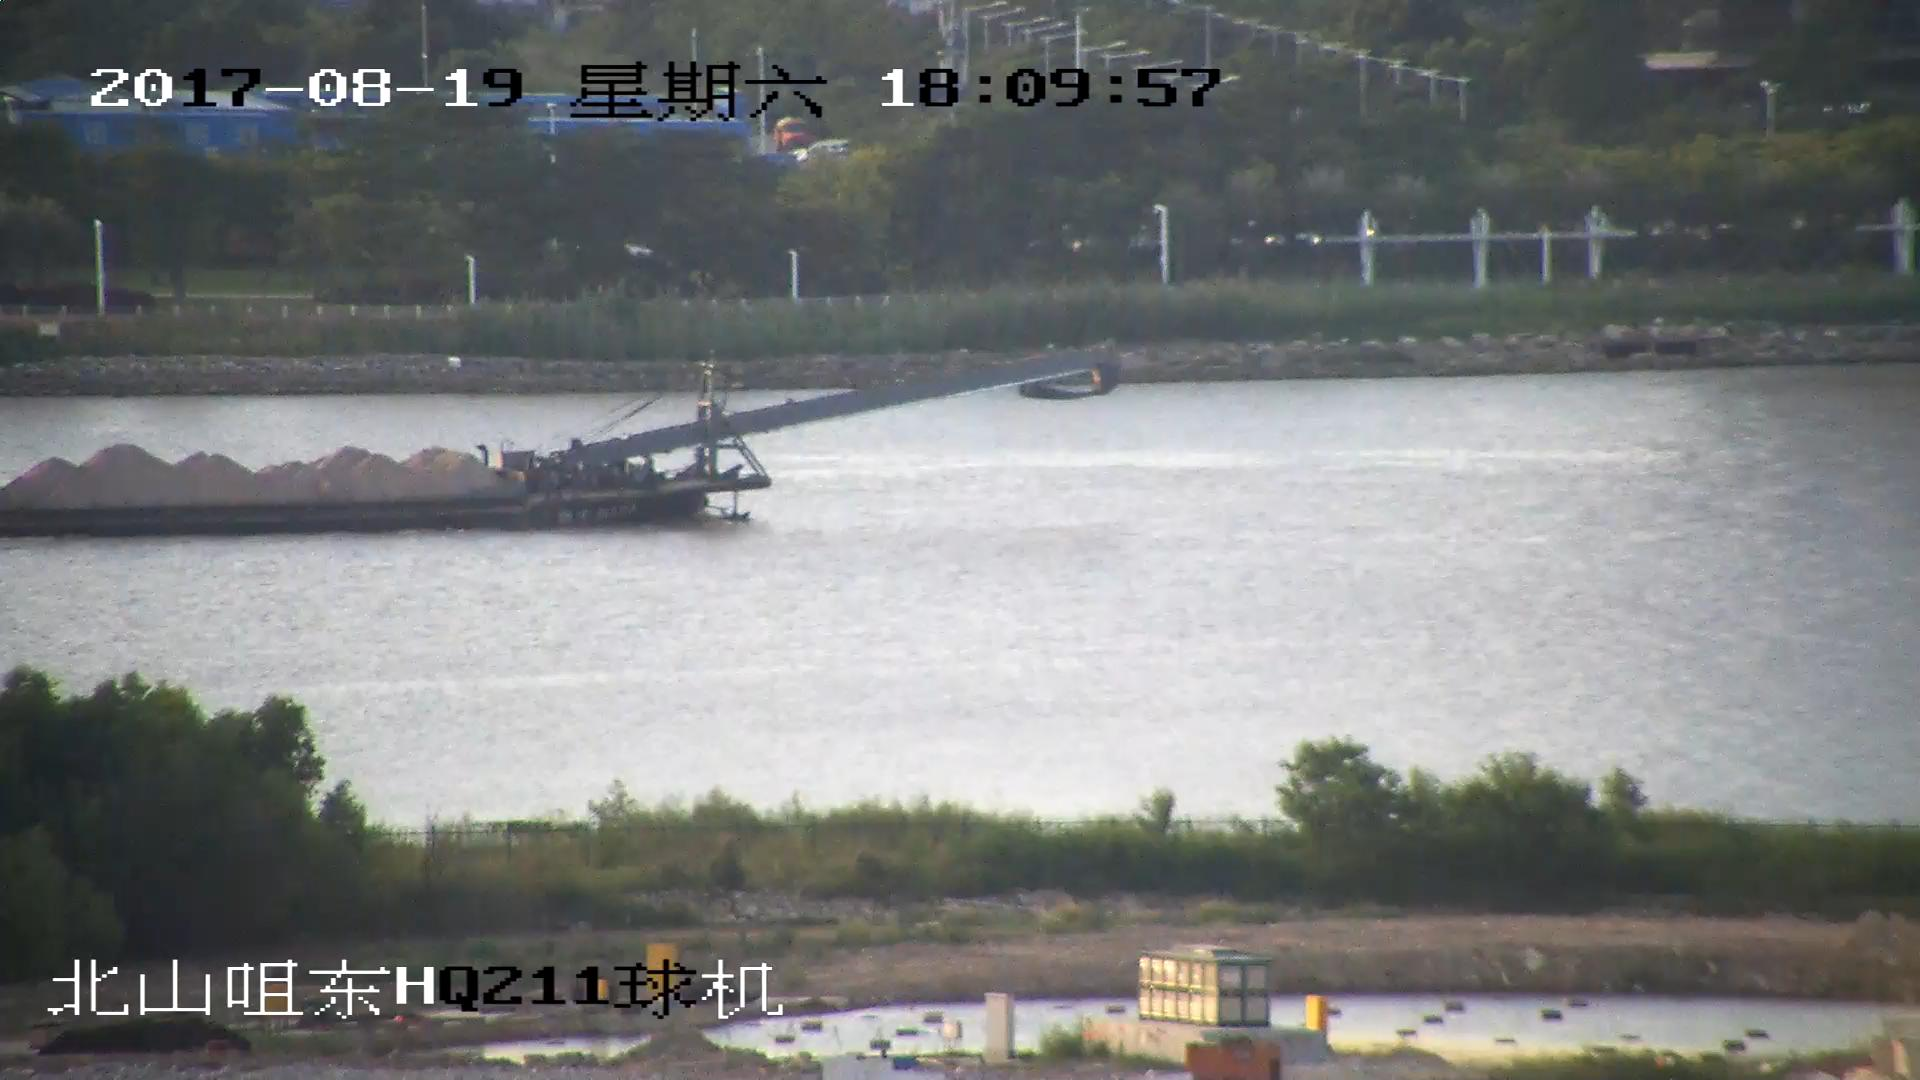ore carrier: (1, 340, 1112, 543)
